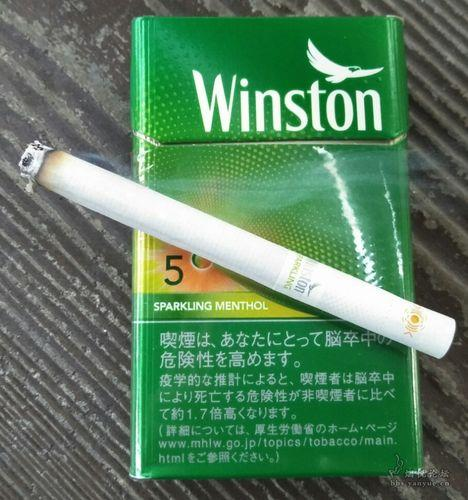smoke: (17, 139, 458, 359)
